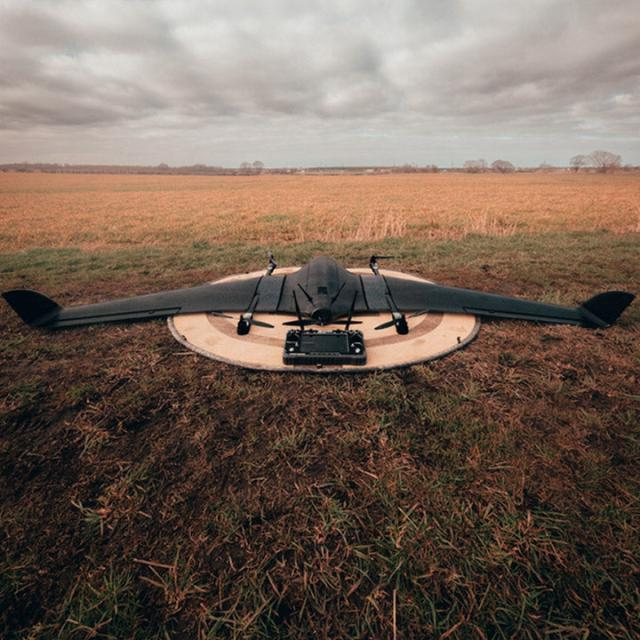iha: (4, 283, 634, 334)
